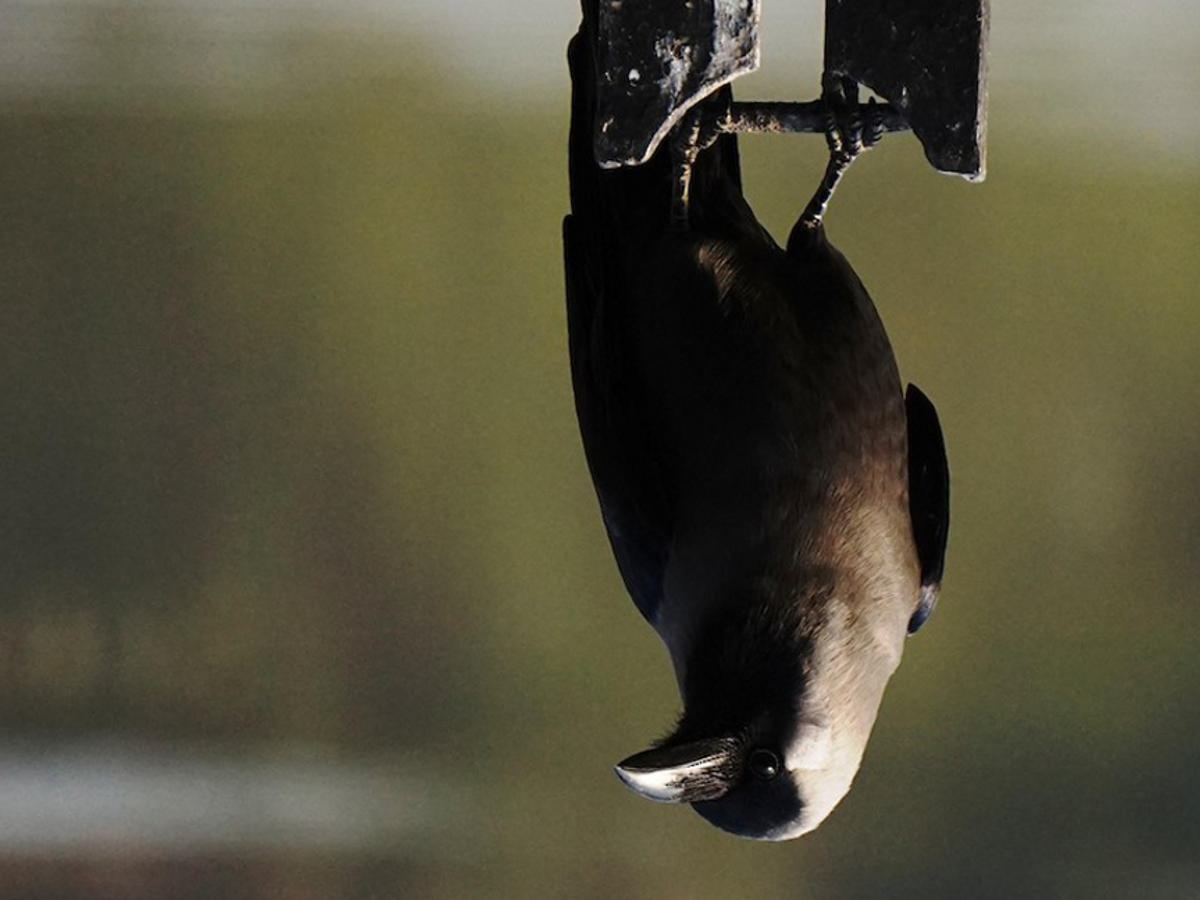crow: (554, 39, 945, 853)
